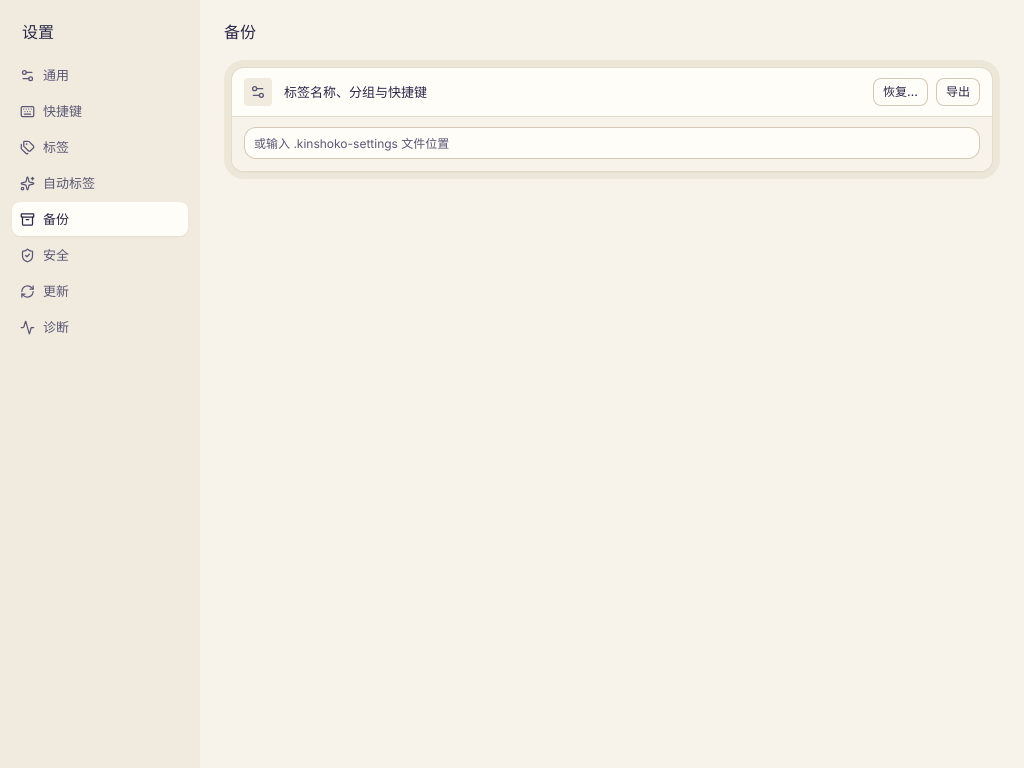
it: 程序设置备份 › 只在读取兼容备份并确认替换范围后恢复，显示重启条件
Type "C:/backup/选择.kinshoko-settings" into the field named "偏好设置备份文件". click: coordinates (612, 143)
box: [244,127,980,159]
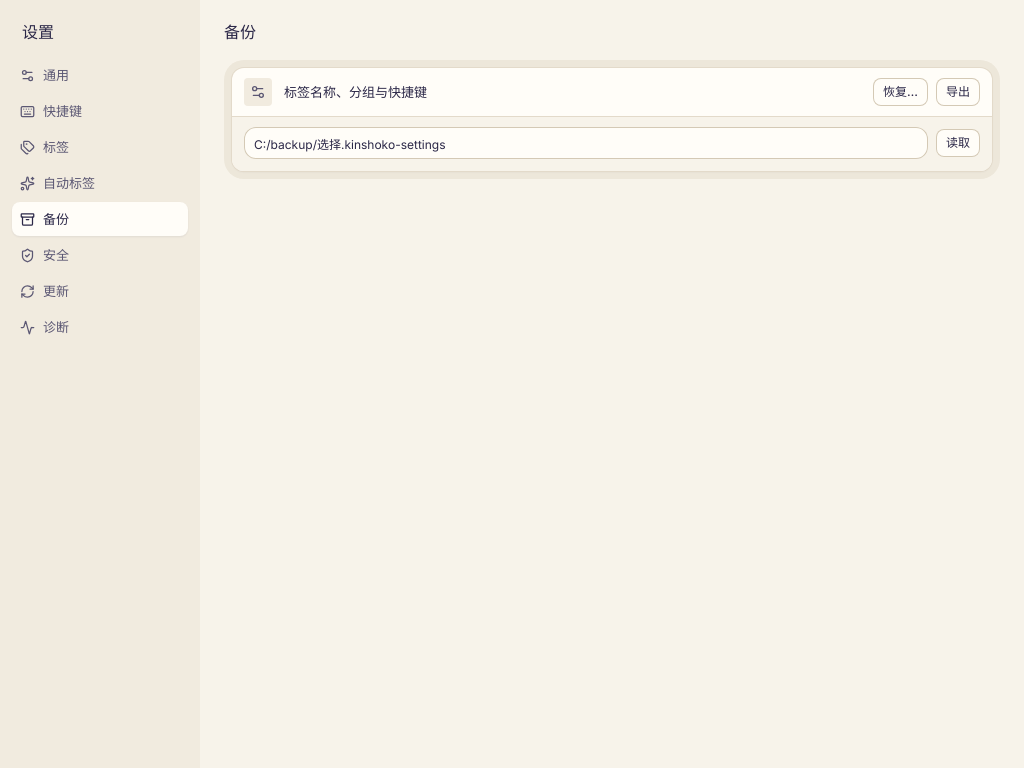
Expected: the button "替换偏好设置" is not shown
Click the button "读取". click: coordinates (958, 143)
box: [936,129,980,157]
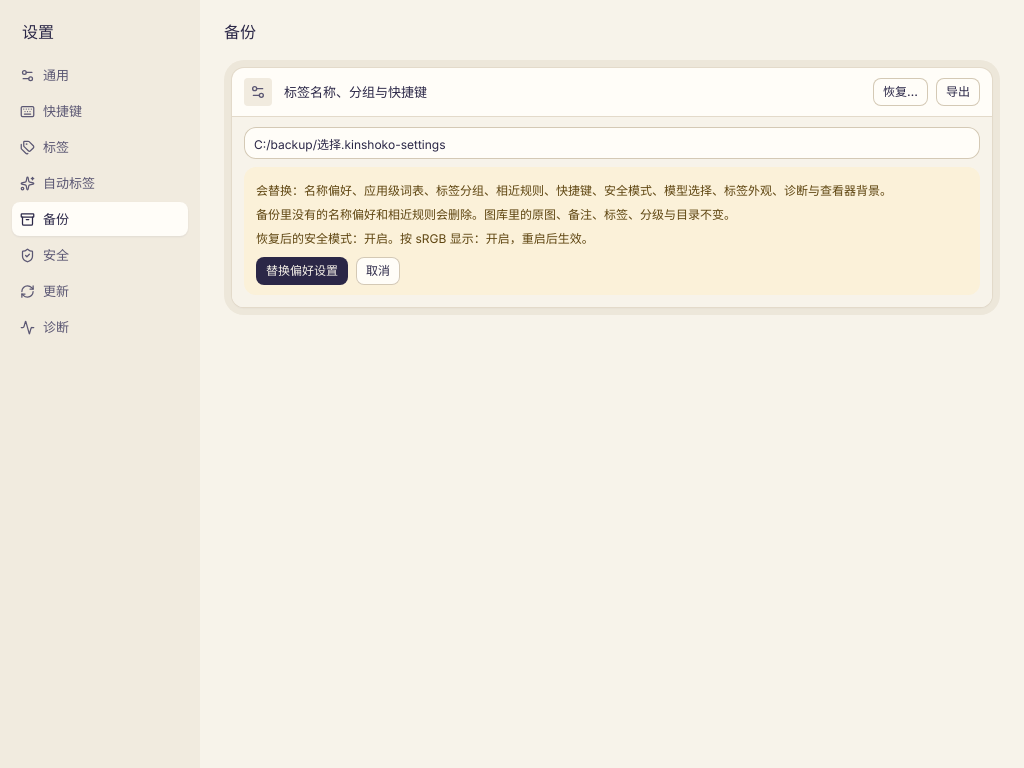
Expected: the text "备份里没有的名称偏好和相近规则会删除。图库里的原图、备注、标签、分级与目录不变。" is shown, [256,207,736,222]
Click the button "替换偏好设置". click: coordinates (302, 271)
box: [256,257,348,285]
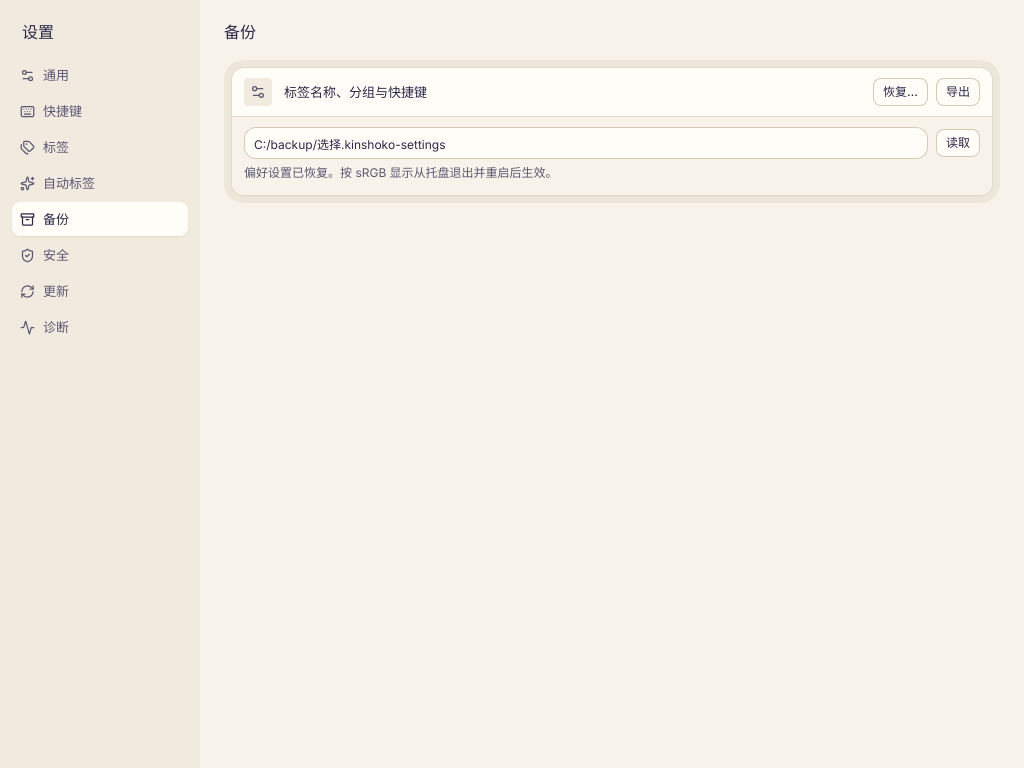
Expected: the text "偏好设置已恢复。按 sRGB 显示从托盘退出并重启后生效。" is shown, [244,165,558,180]
